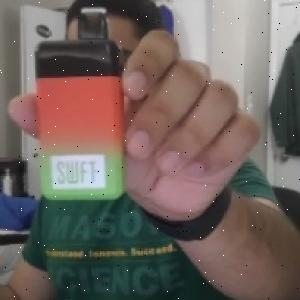Swift-E-Ciggirate: (37, 3, 126, 206)
